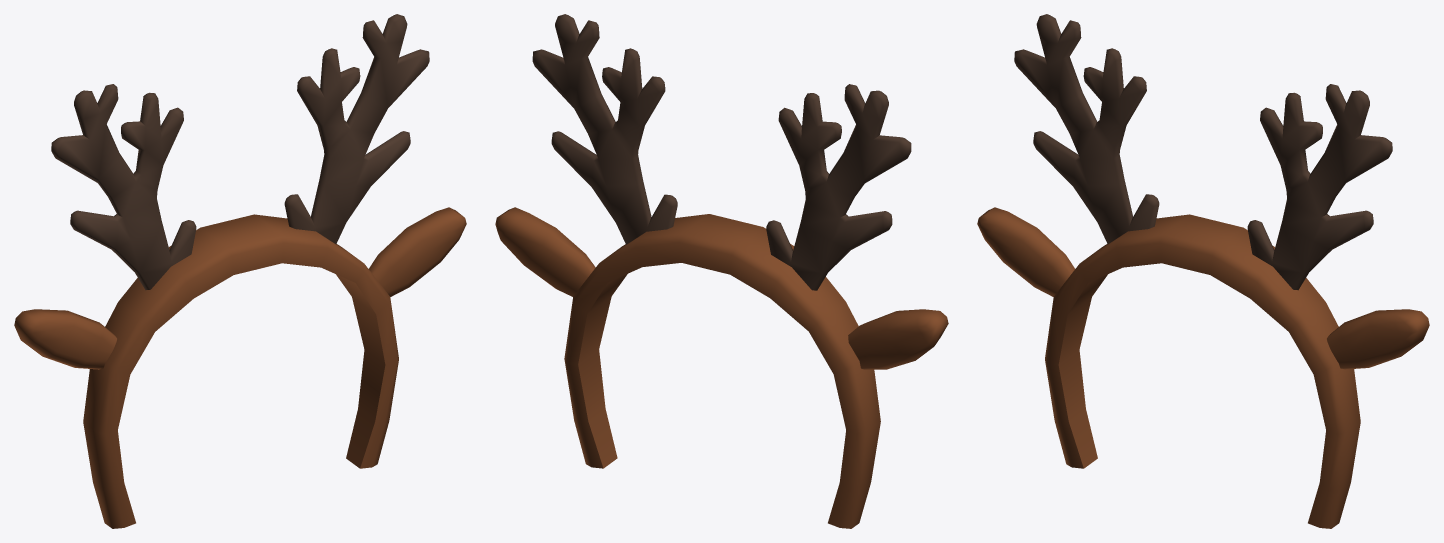
The model's file is ReinDeerHat_01.fbx.
3 views of the same model, side by side, from view 1: azimuth 30°, elevation 25°; view 2: azimuth 150°, elevation 25°; view 3: azimuth 330°, elevation 25° (orthographic).
Visible parts, largest first — view 1: ReinDeerHat_01; view 2: ReinDeerHat_01; view 3: ReinDeerHat_01.
Boxes of the visible parts, box(x1,y1,x2,y2) form: ReinDeerHat_01: box(14, 14, 466, 528); ReinDeerHat_01: box(495, 14, 948, 528); ReinDeerHat_01: box(977, 14, 1429, 528).
Size of the model in its own units: 0.4165 by 0.3959 by 0.0547.
